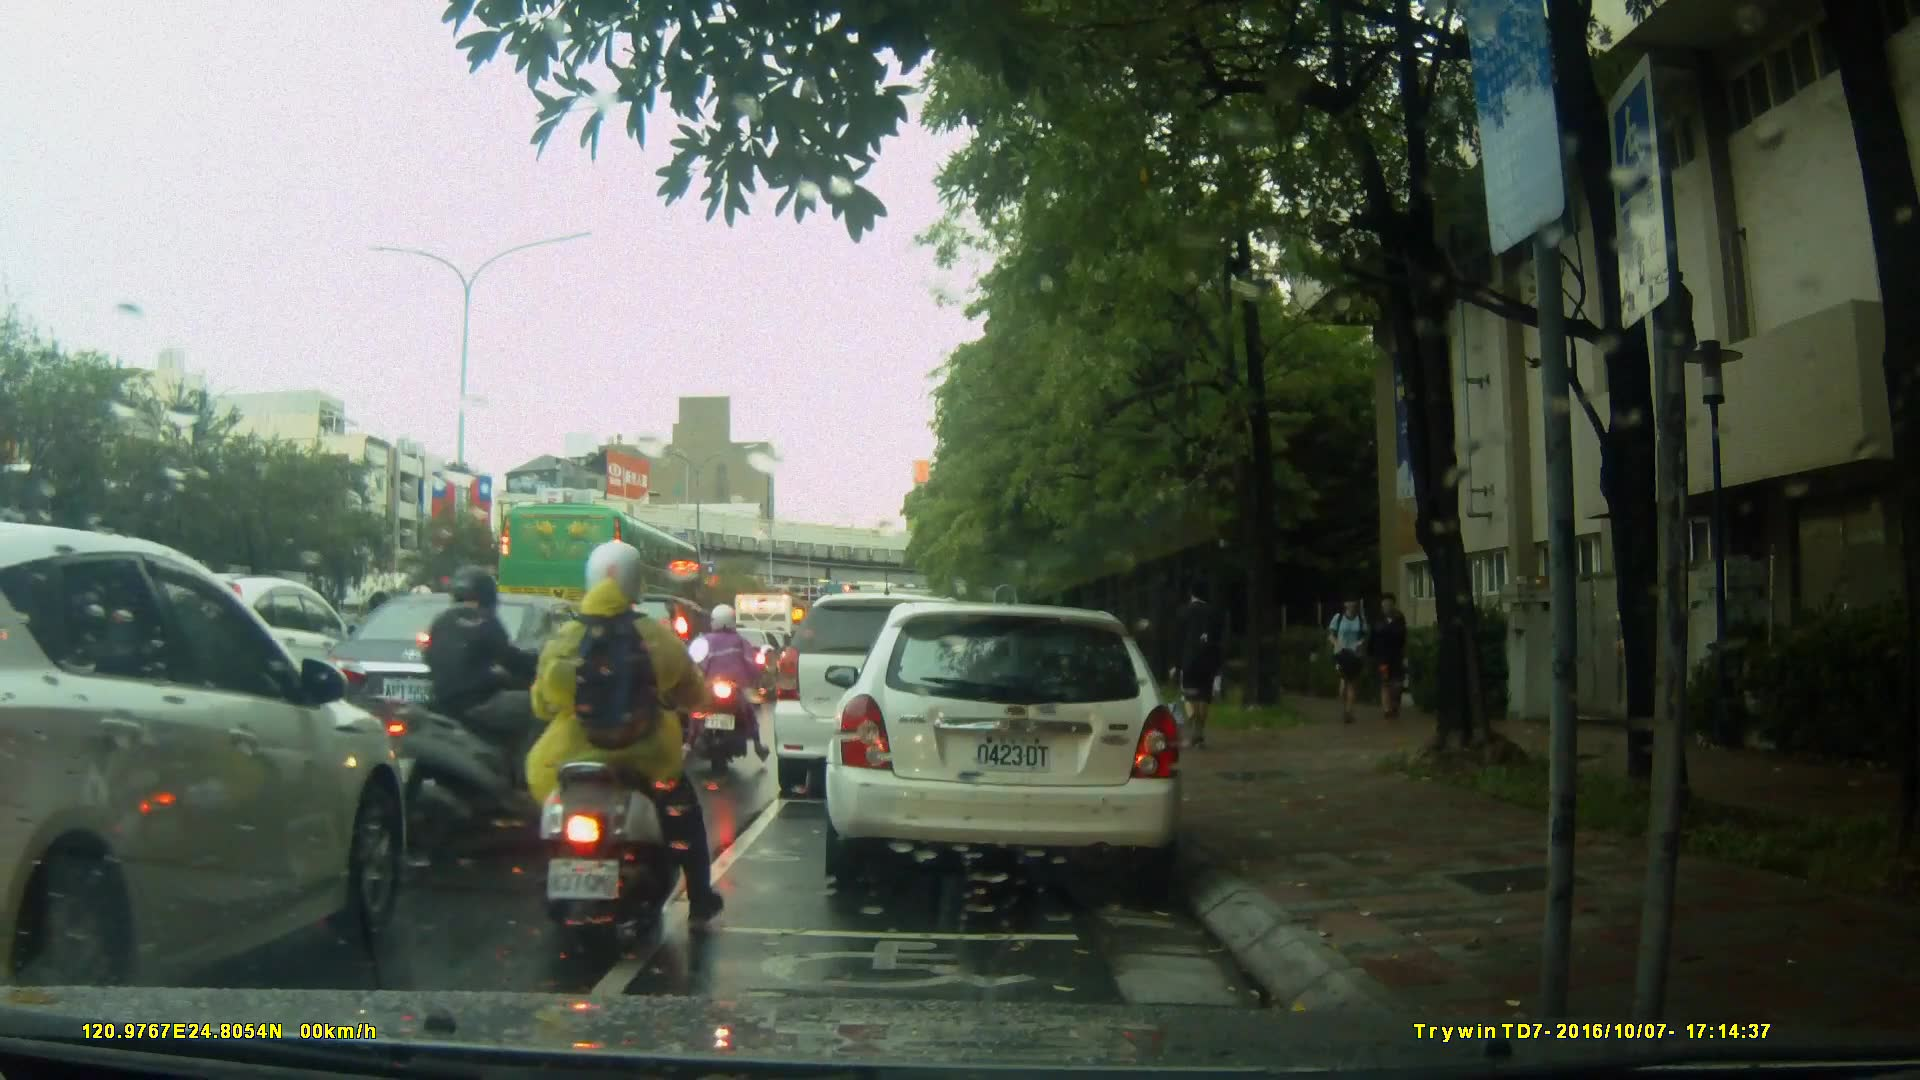pedestrian: (1166, 580, 1227, 755), (1325, 587, 1379, 732), (1367, 588, 1406, 727)
rider: (518, 538, 725, 945), (385, 572, 611, 856), (689, 598, 779, 772)
vehicle: (1, 519, 412, 985), (831, 592, 1196, 897), (308, 593, 659, 803), (770, 592, 999, 800), (494, 502, 708, 641)
